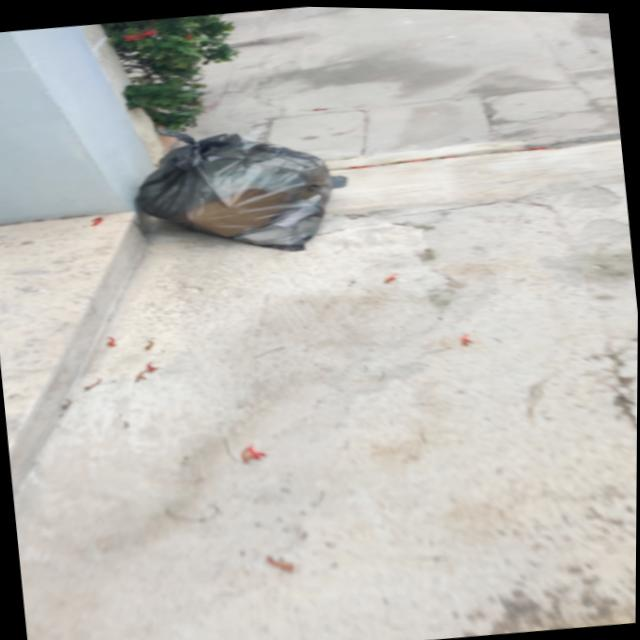Mixed Waste -Black Bags-: (135, 131, 332, 251)
